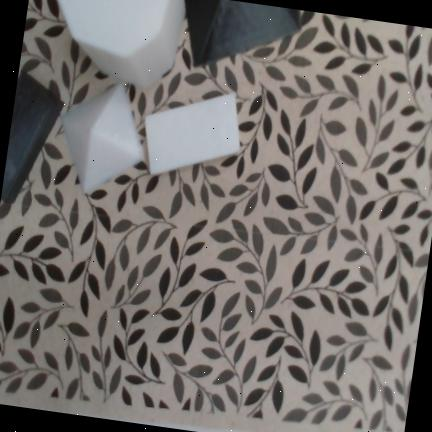Paralelepipedo: (1, 71, 65, 203), (144, 93, 239, 175)
Piramide: (60, 81, 145, 195), (185, 0, 302, 67)
Prisma_hexagonal: (58, 0, 186, 88)
